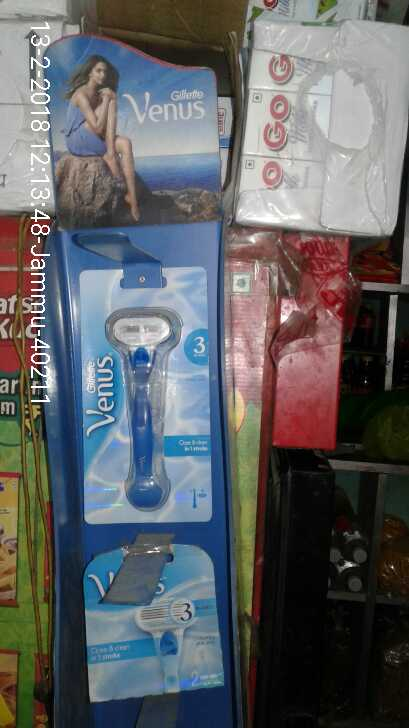venus: (72, 261, 213, 528), (76, 537, 232, 700)
